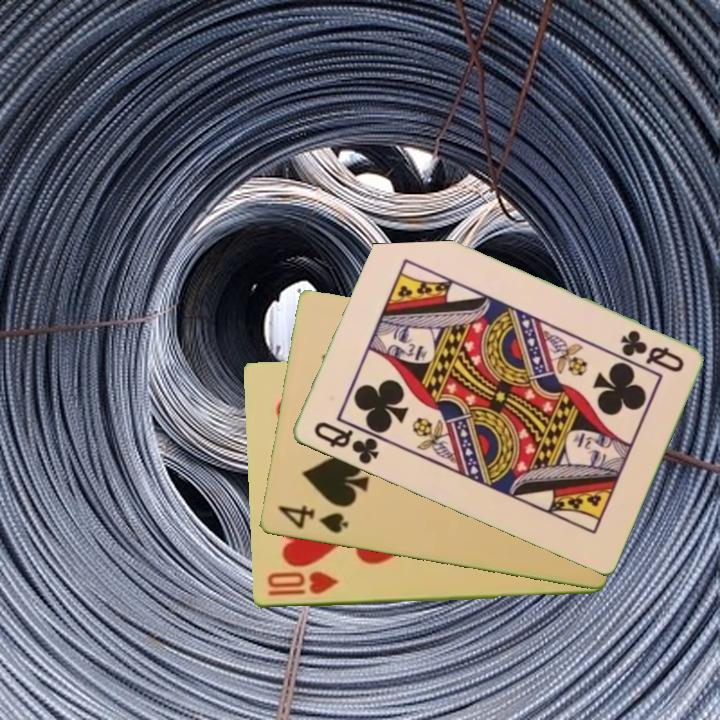10h: (263, 568, 340, 599)
4s: (274, 502, 351, 537)
Qc: (309, 418, 382, 468), (616, 326, 687, 376)
